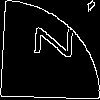Z: (25, 25, 73, 59)
